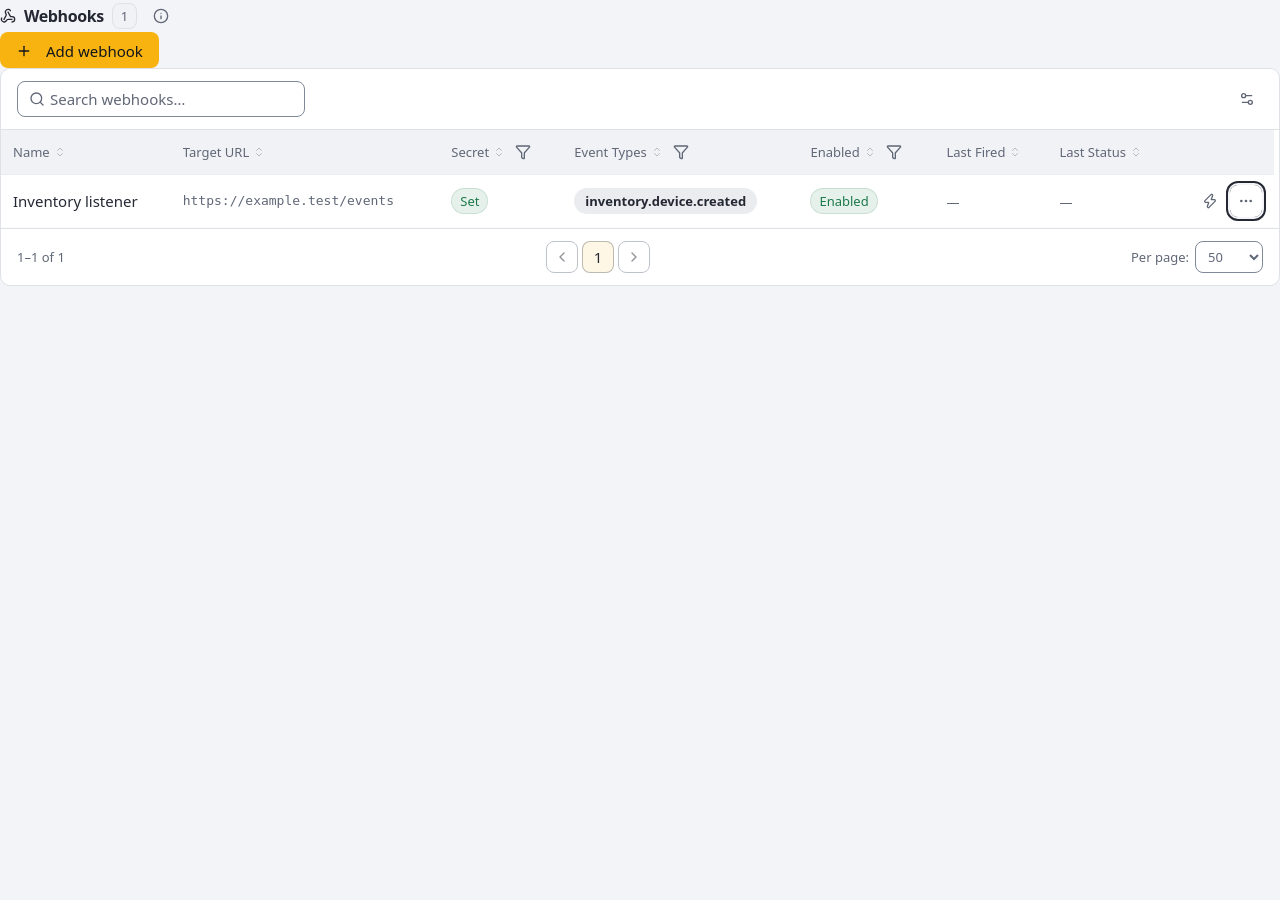
Scenario: WebhooksPage mutation lifetime and access › keeps deletion confirmation pending and retains it on failure
The width and height of the screenshot is (1280, 900).
Press Enter in the button named "Actions: Inventory listener", box [1230,185,1262,217]
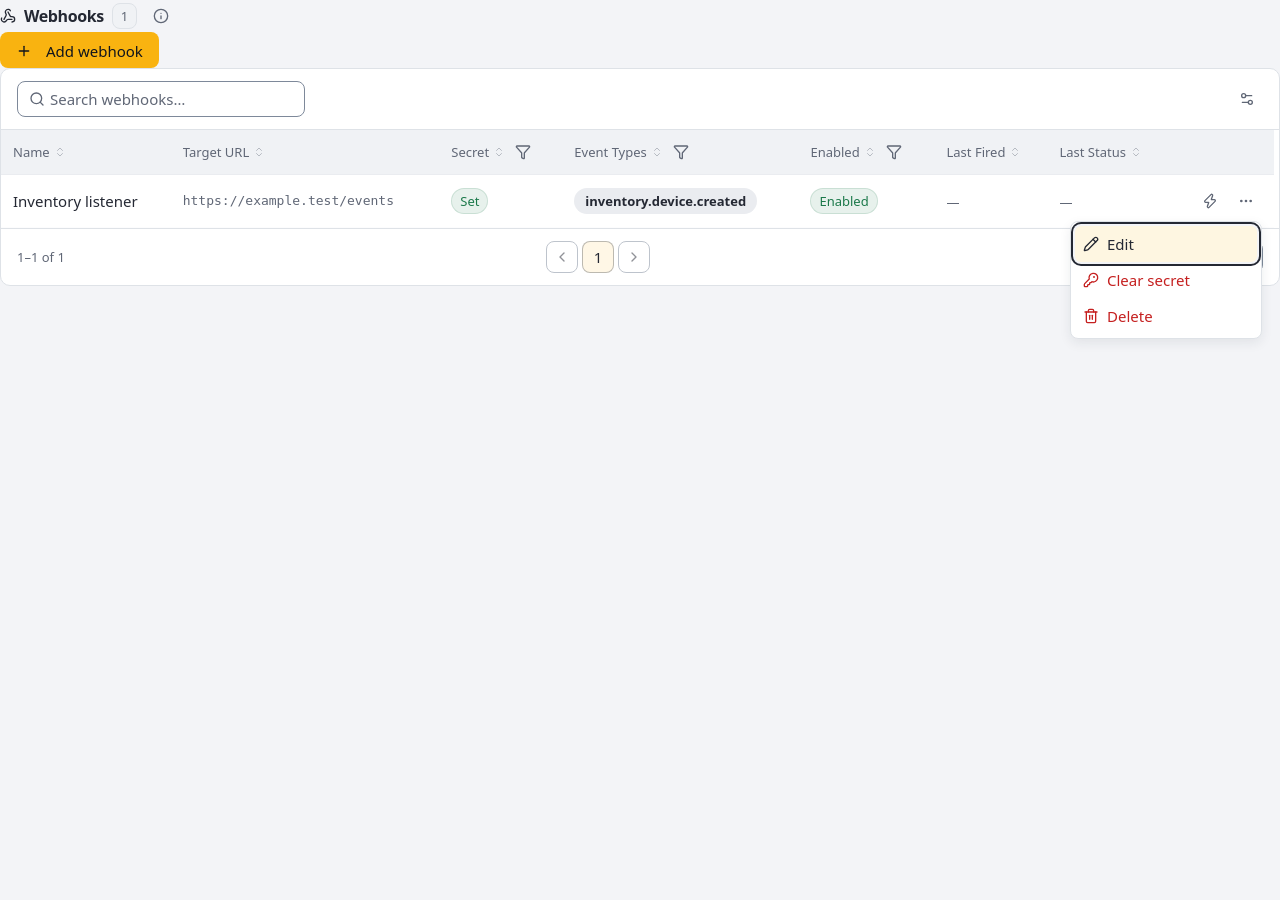
Click the menu item "Delete" at (1118, 316), box [1083,306,1153,326]
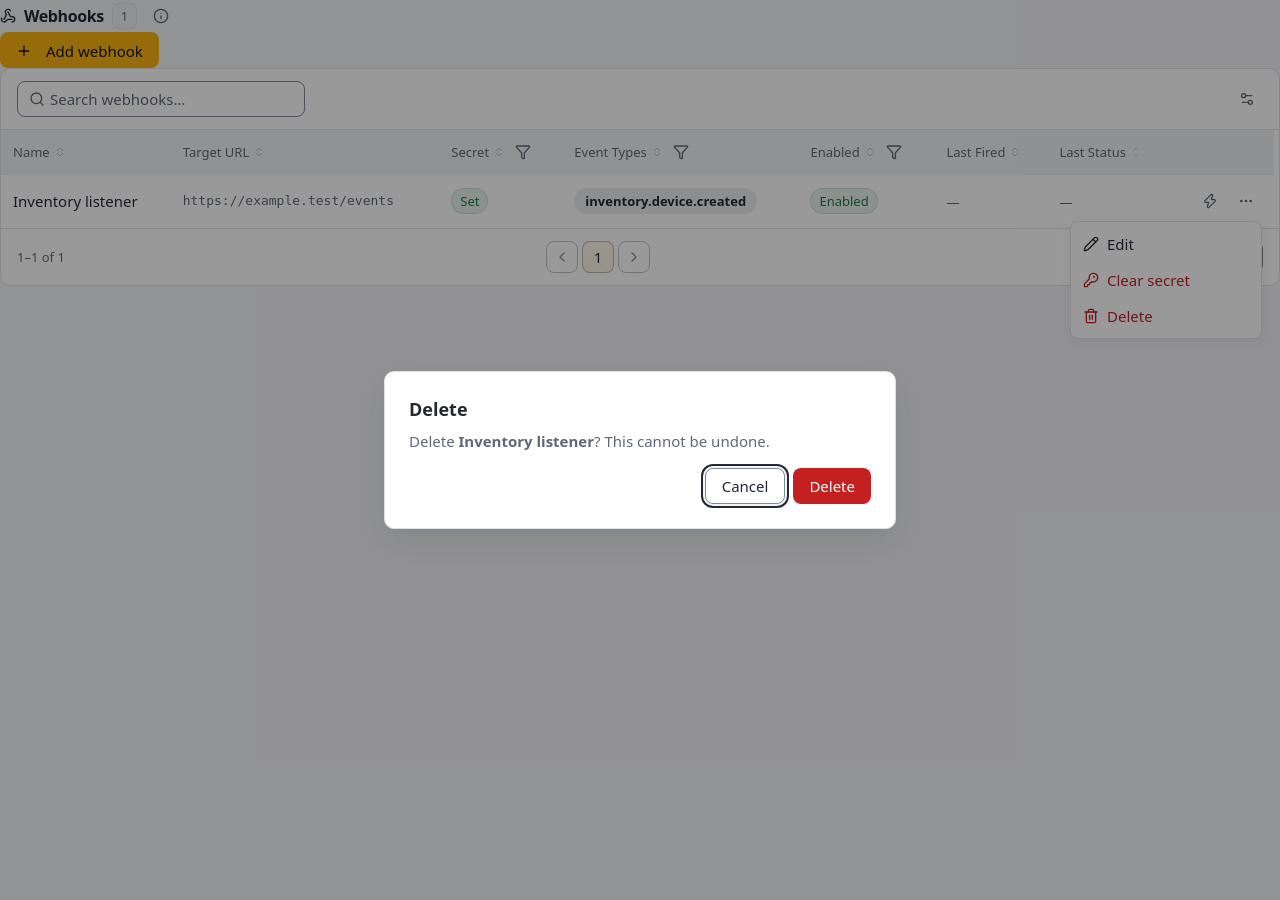
Click the button "Delete" at (832, 486), box [793,468,871,504]
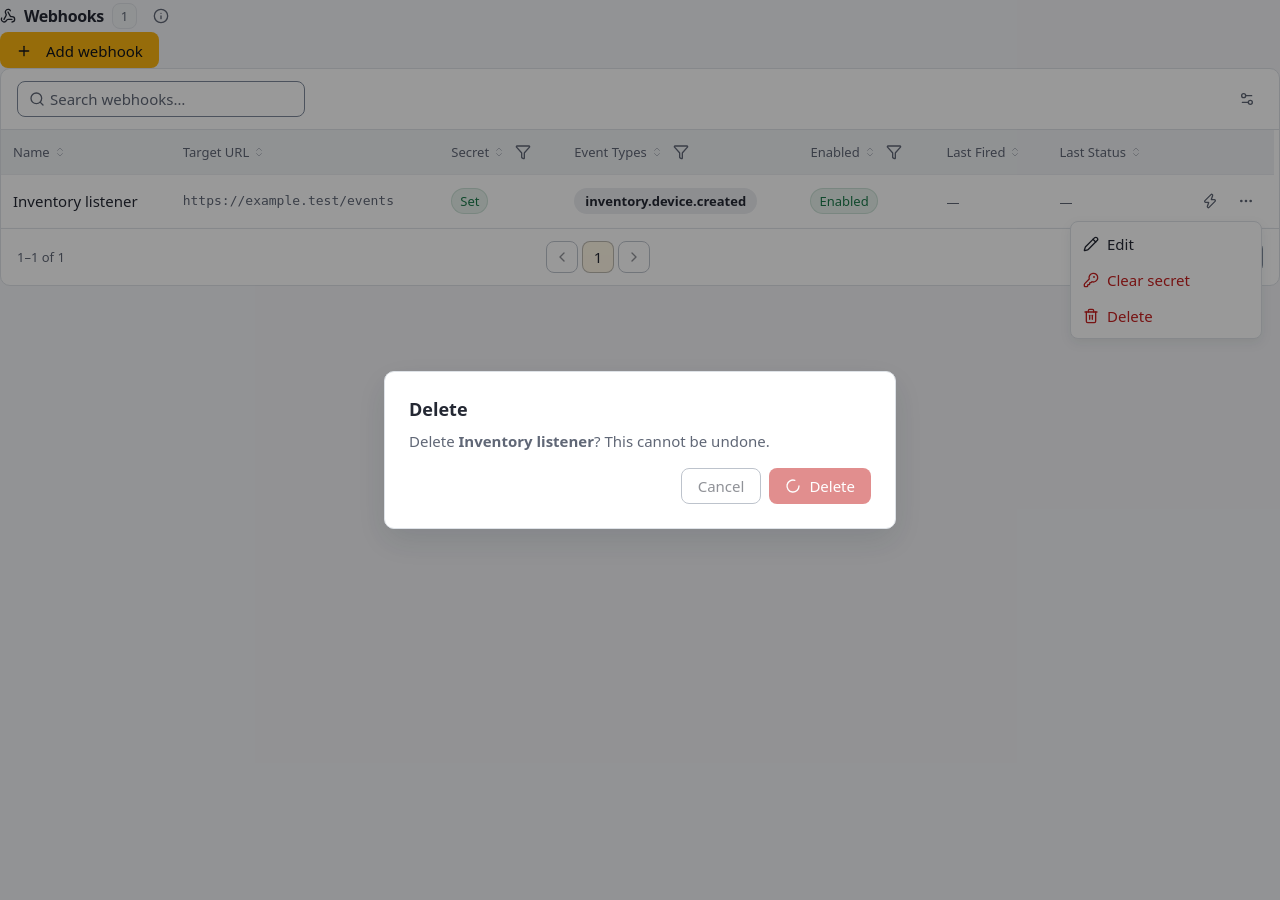
Expected: the dialog is shown
Expected: the button "Cancel" is disabled, [681,468,761,504]
Press Escape in the dialog, box [384,371,896,529]
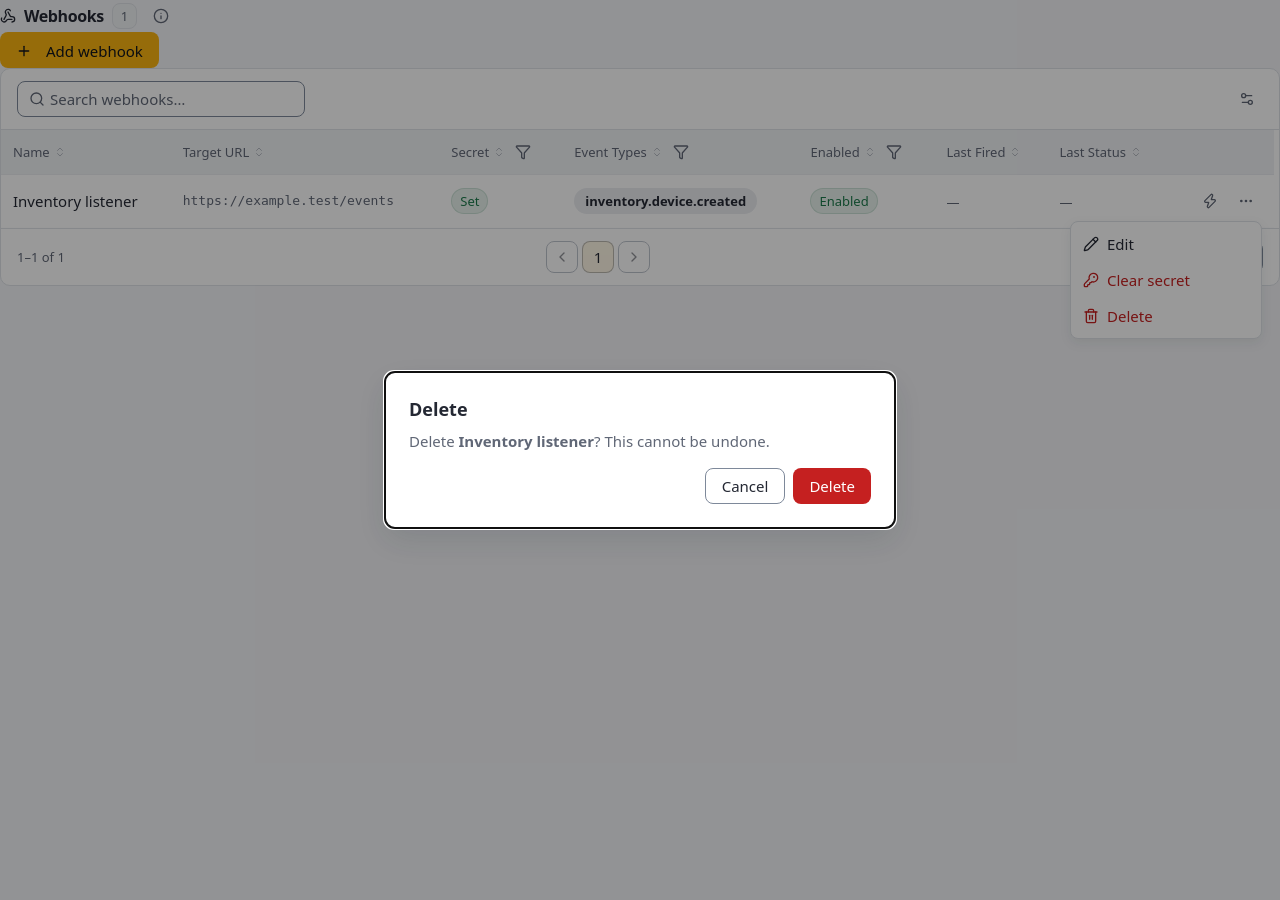
Expected: the dialog is shown, [384,371,896,529]
Expected: the button "Delete" is enabled, [793,468,871,504]
